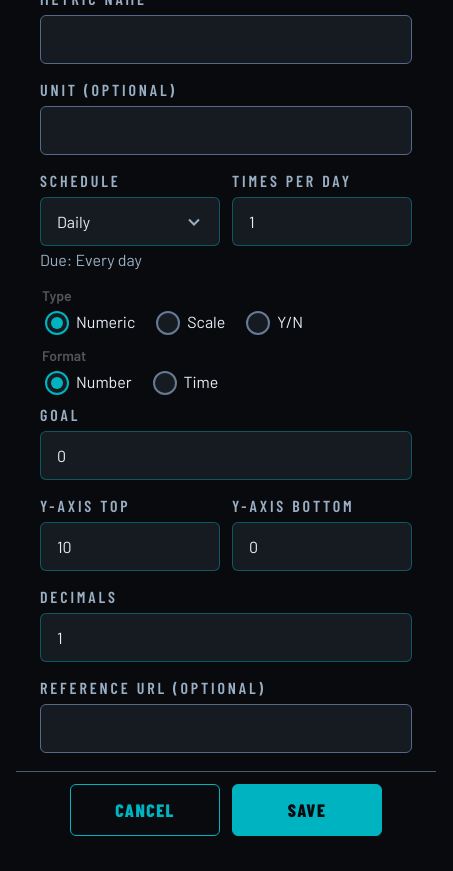
Scenario: CustomMetricForm — submit shape per top-level type › rejects Scale submit when fewer than 2 levels are defined
The image size is (453, 871).
Type "Tiny" into the field labelled "Metric Name". click: (226, 40)
box: [40, 15, 412, 64]
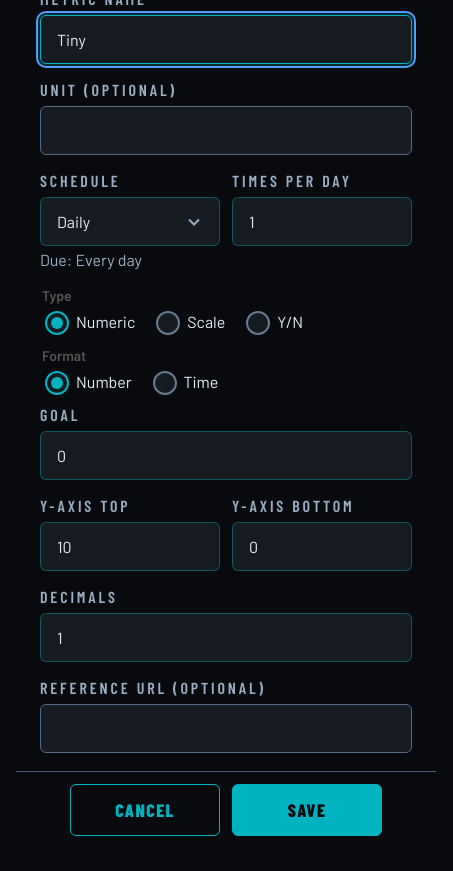
Click the radio button labelled "Scale". click: (168, 323)
box: [156, 311, 180, 335]
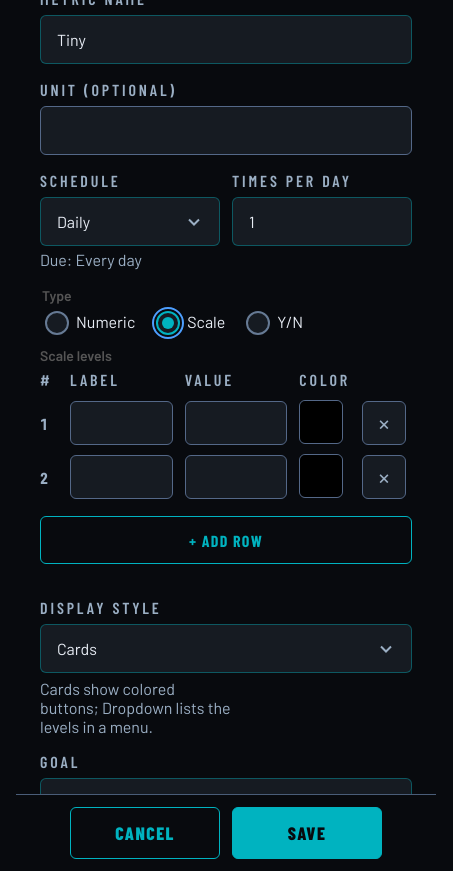
Expected: the number of buttons named "remove row" is 2
Click the button named "remove row". click: (384, 423)
box: [362, 401, 406, 445]
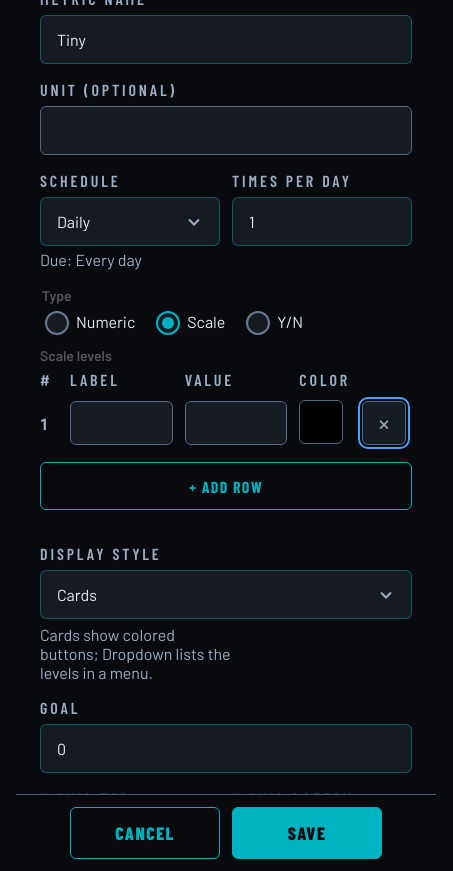
Click the button named "remove row". click: (384, 423)
box: [362, 401, 406, 445]
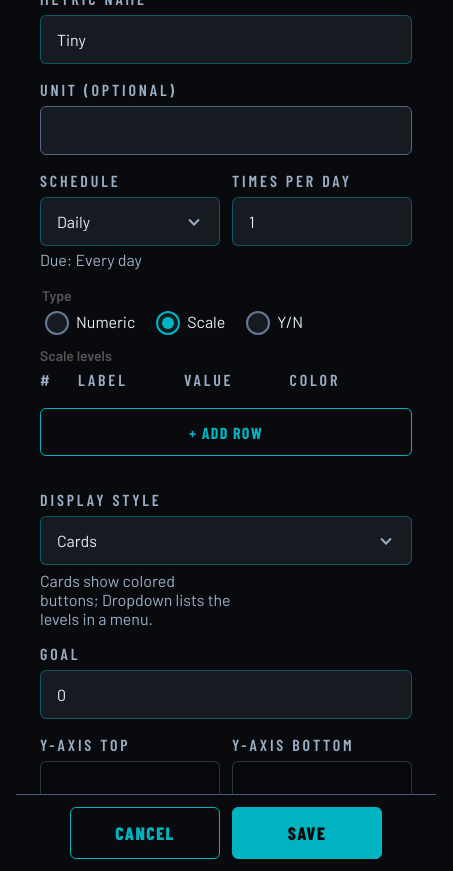
Click the button "Save". click: (307, 833)
box: [232, 807, 382, 859]
(page scrolled)
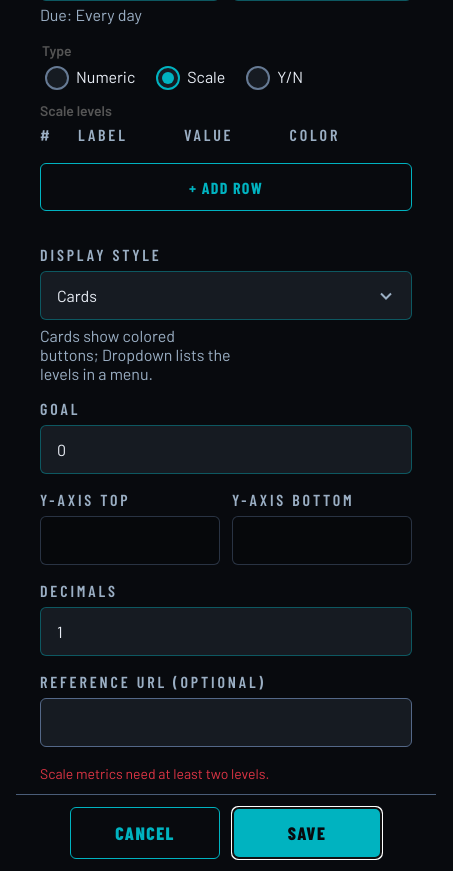
Expected: the text "Scale metrics need at least two levels." is shown, [40, 765, 269, 782]
